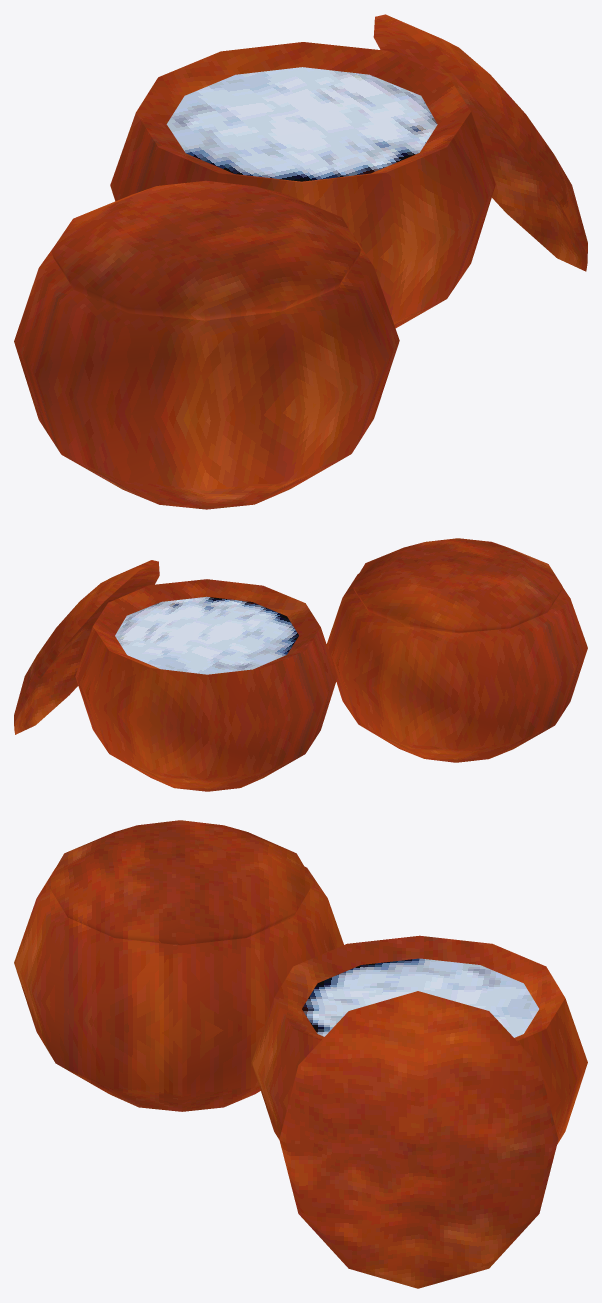
File: ps2_save-icons_simple2000honkakushikouseriesvol2theigo.glb
3 renders of one model, top to bottom at view 1: azimuth 30°, elevation 25°; view 2: azimuth 150°, elevation 25°; view 3: azimuth 270°, elevation 25°, orthographic. The views are drawn at different scales.
Visible parts, largest first — view 1: icon1.ico; view 2: icon1.ico; view 3: icon1.ico.
Part boxes in pixels (<box>): icon1.ico: <box>14,14,587,509</box>; icon1.ico: <box>14,538,587,791</box>; icon1.ico: <box>14,820,587,1288</box>.
Bounding box in the file's own units: 3.2 × 1.23 × 2.76.
1 material, 1 textured.
